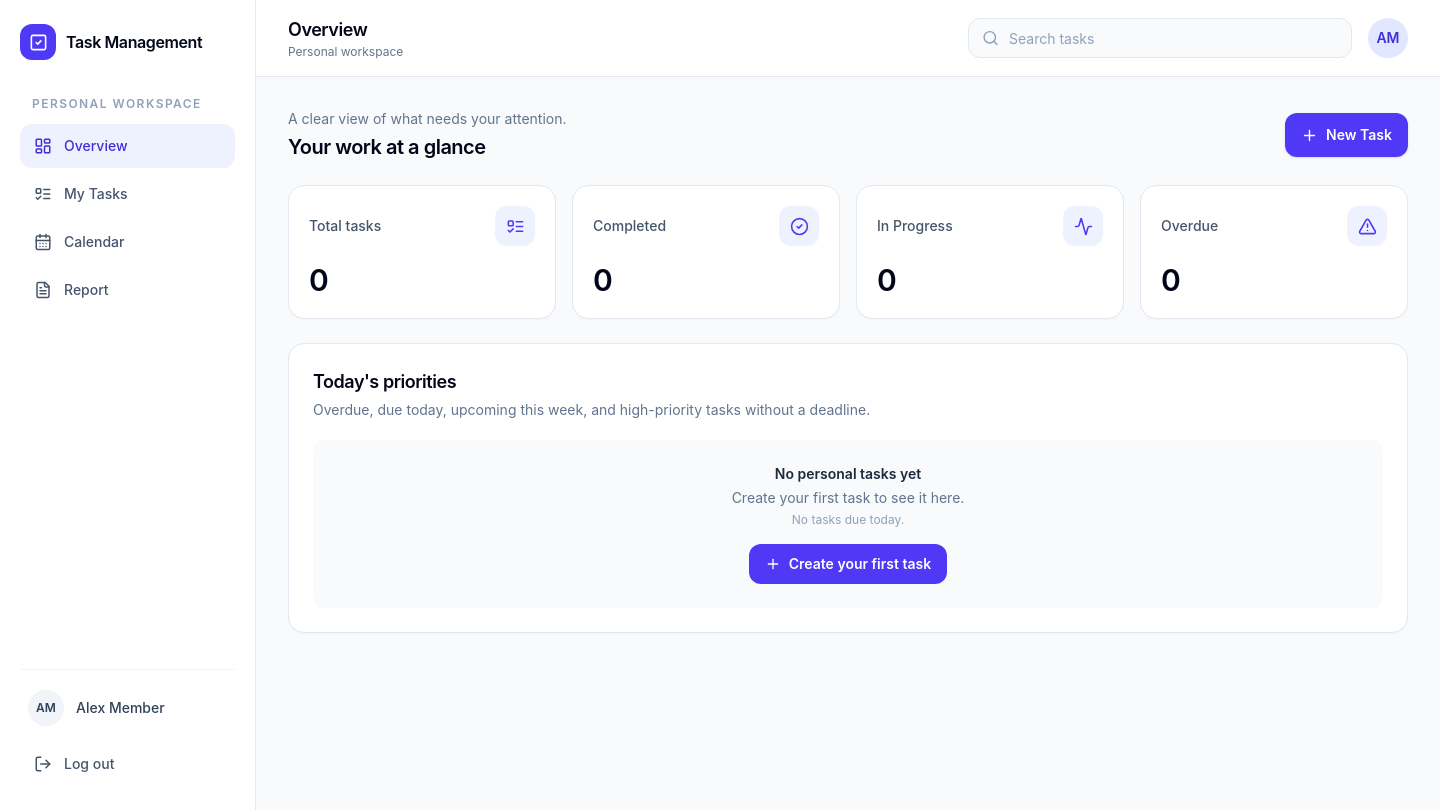
Test: personal task dialog › prevents duplicate submissions while the create request is pending
This screenshot has width=1440, height=810.
Click the button "New Task" at (1347, 135), box [1285,113,1408,157]
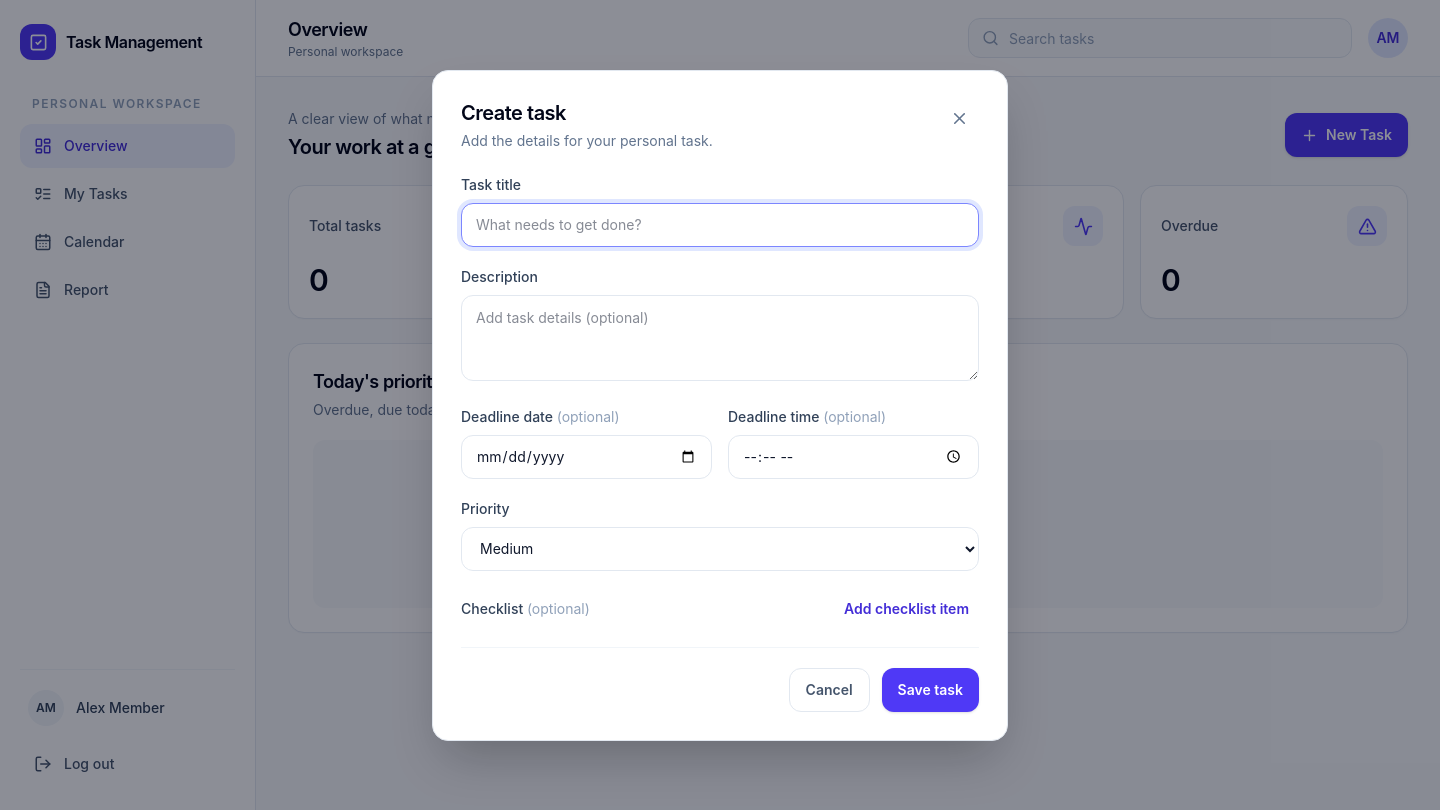
Type "Only one request" into the field labelled "Task title" at (720, 224), box [461,202,979,246]
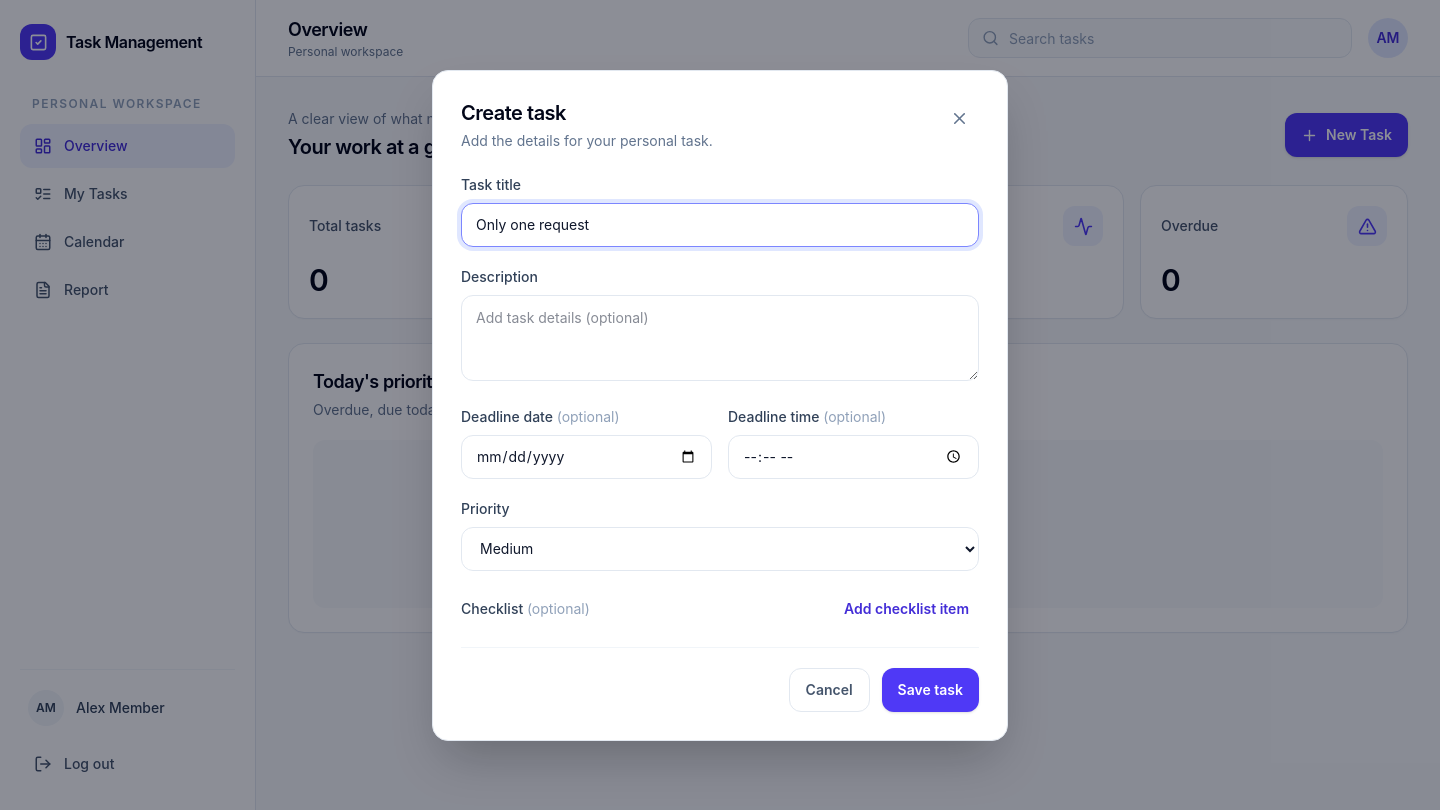
Click the button "Save task" at (930, 690), box [882,668,979,712]
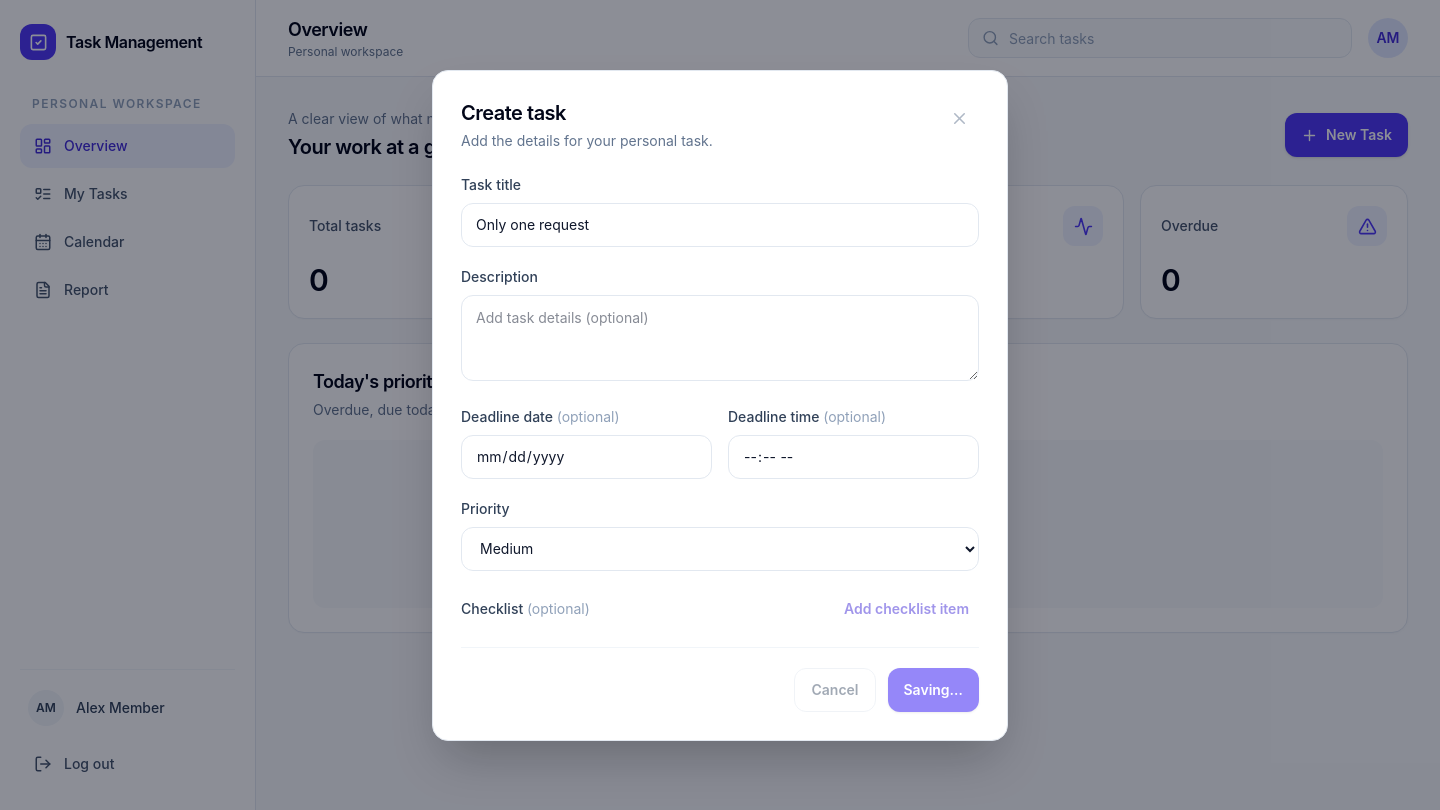
Now the button named "Save task" is disabled
Now the field labelled "Task title" is disabled, box [461,202,979,246]
Click the button named "Save task" at (933, 690), box [888,668,979,712]
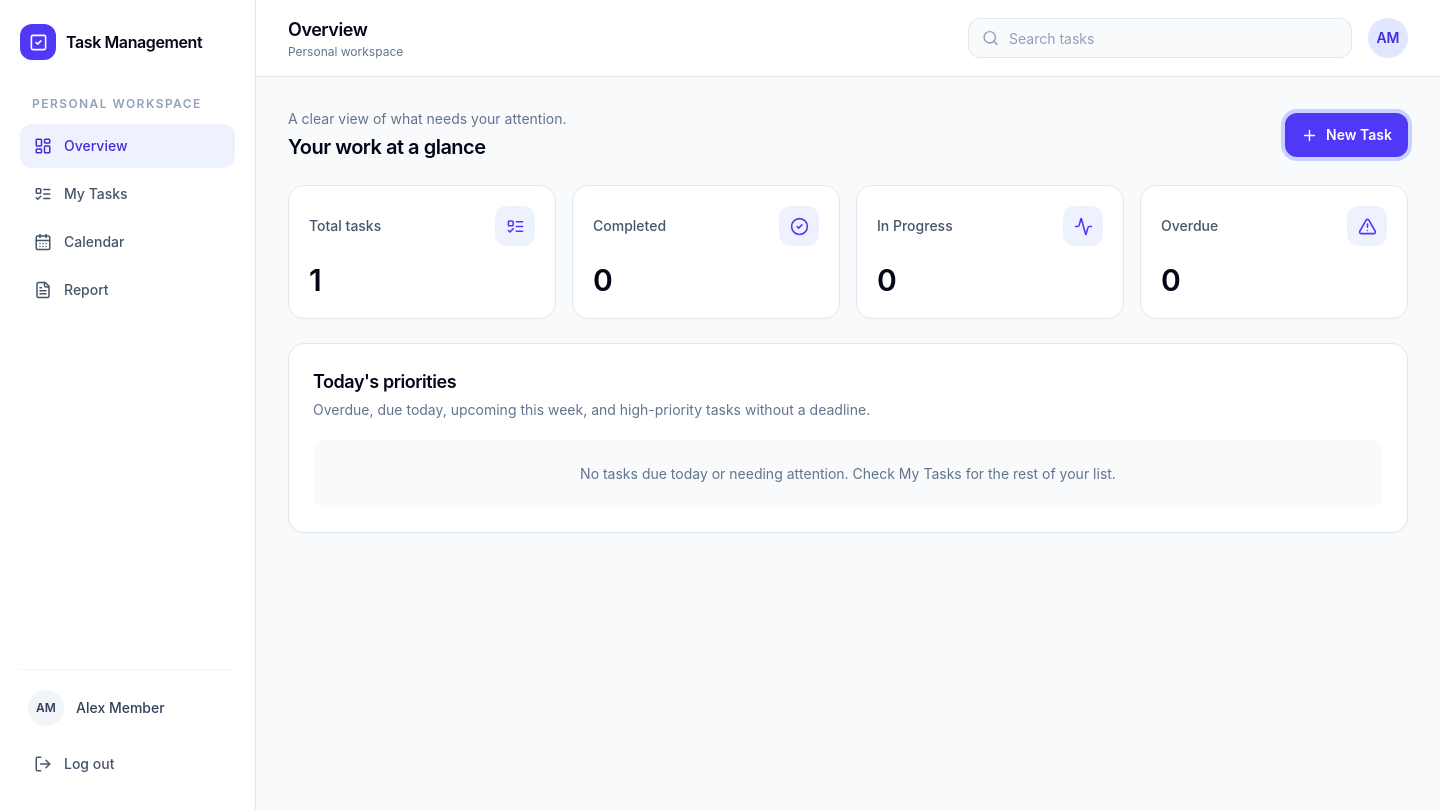
Now the dialog is gone
